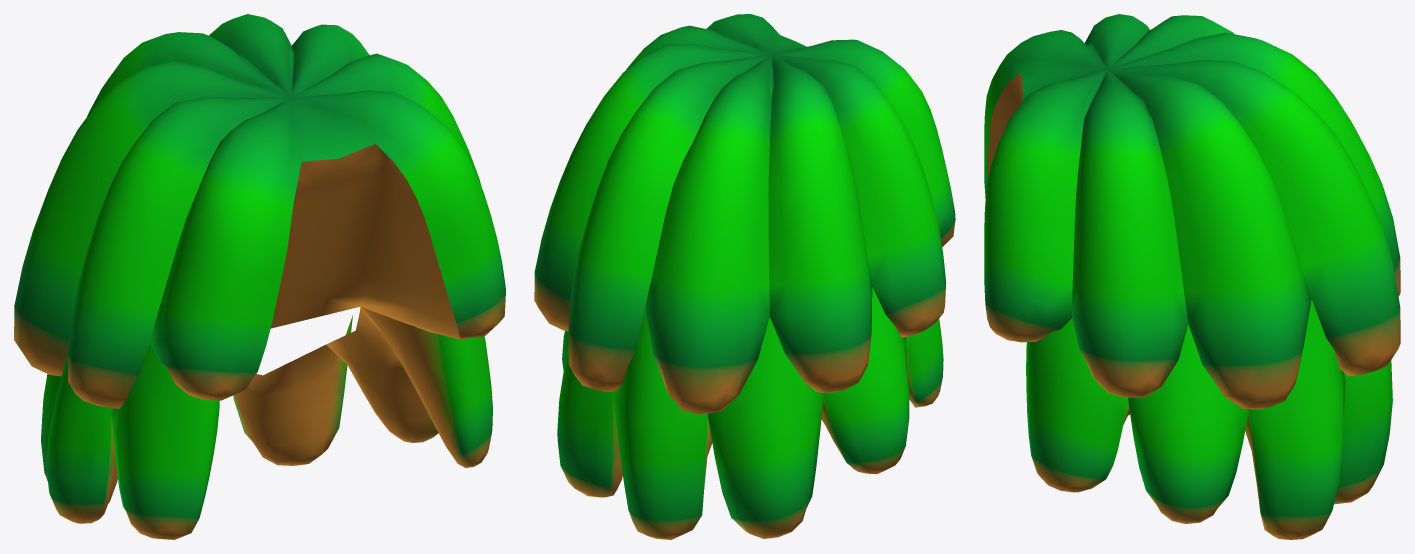
The model's file is Hair1_42.glb.
The picture shows the model from 3 angles, left to right: view 1: azimuth 30°, elevation 25°; view 2: azimuth 150°, elevation 25°; view 3: azimuth 270°, elevation 25°; orthographic projection. The views are drawn at different scales.
Size of the model in its own units: 71.19 by 79.59 by 66.91.
